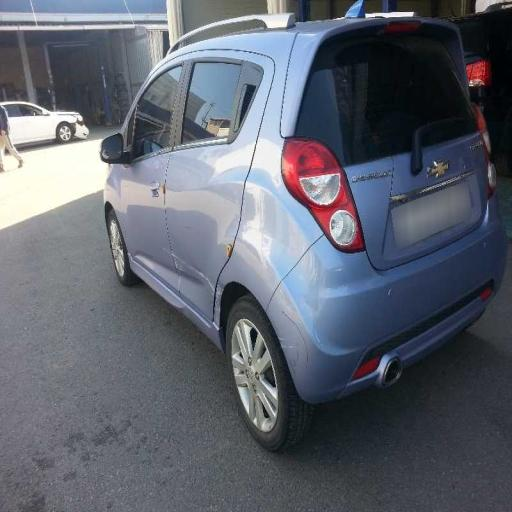dent: (191, 134, 345, 319)
scratch: (229, 168, 288, 277)
